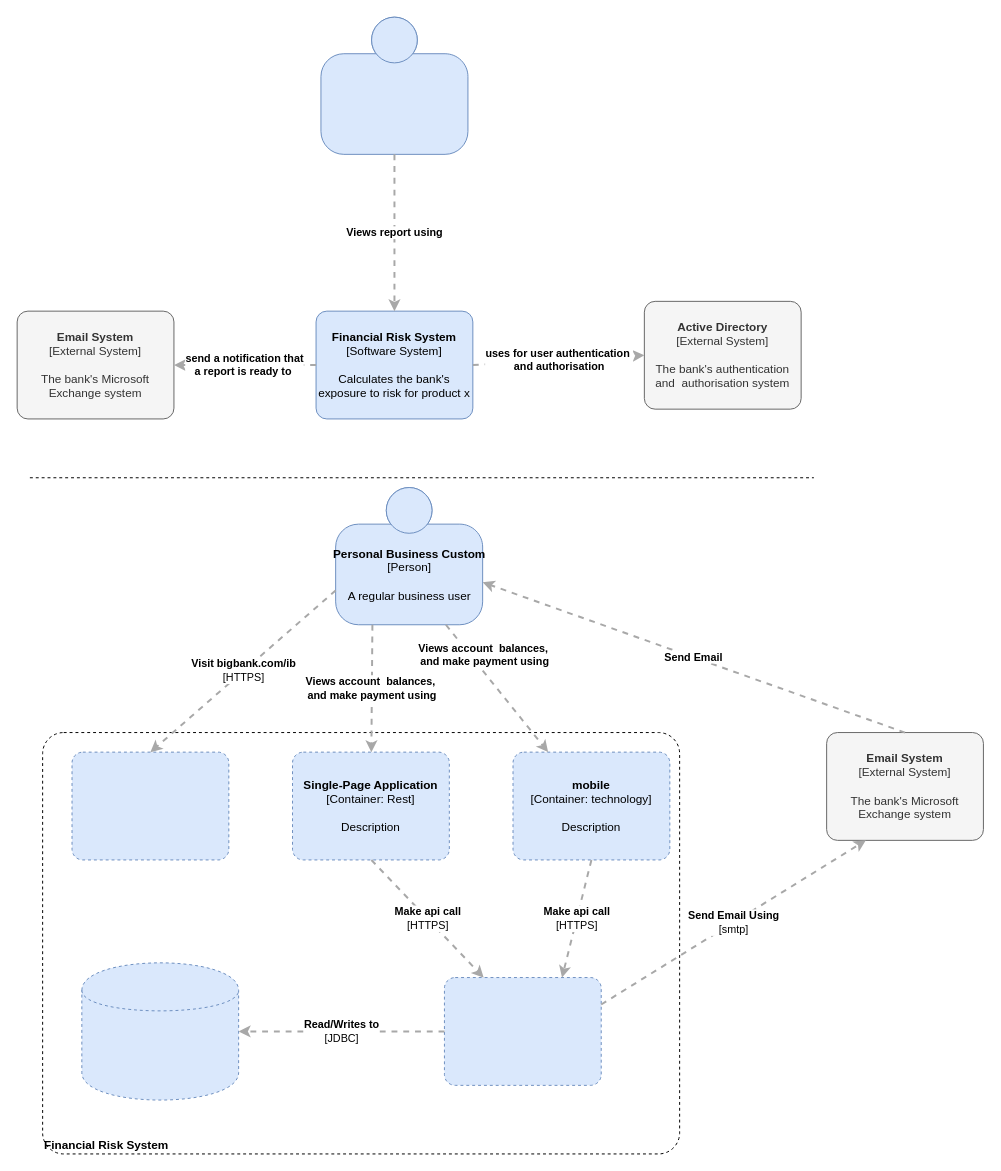
This 1001x1171 diagram has some shape labels left out. Each missing label, with the centre of its shape:
"Api Application [Container: JAVA and Spring MVC ] Description" goes at (x=522, y=1031).
"Business User [Person] A regular business user" goes at (x=394, y=85).
"Database [Container: Oracle] Description" goes at (x=160, y=1031).
"Web Application [Container: JAVA and Spring MVC ] Description" goes at (x=150, y=805).
